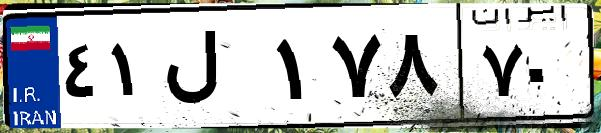0: (525, 38, 570, 115)
1: (270, 28, 330, 110), (110, 28, 158, 98)
4: (57, 26, 110, 100)
7: (330, 28, 385, 110), (475, 38, 525, 113)
8: (385, 28, 445, 110)
ل: (158, 20, 270, 120)
